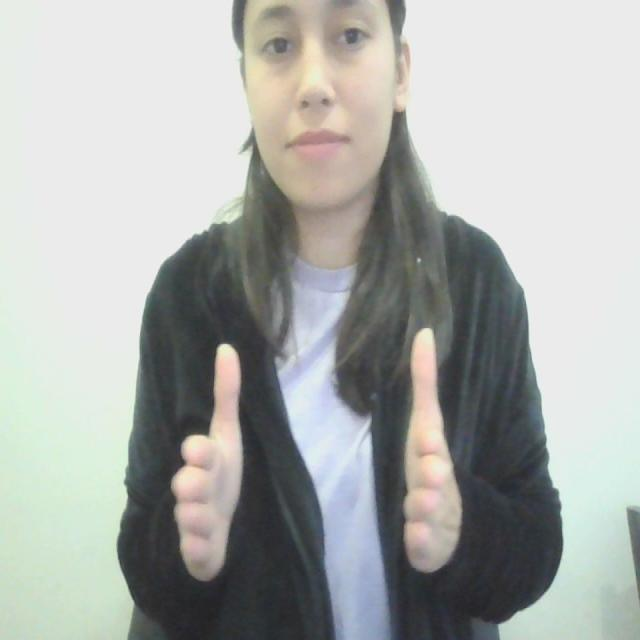Nasil: (164, 323, 488, 585)
